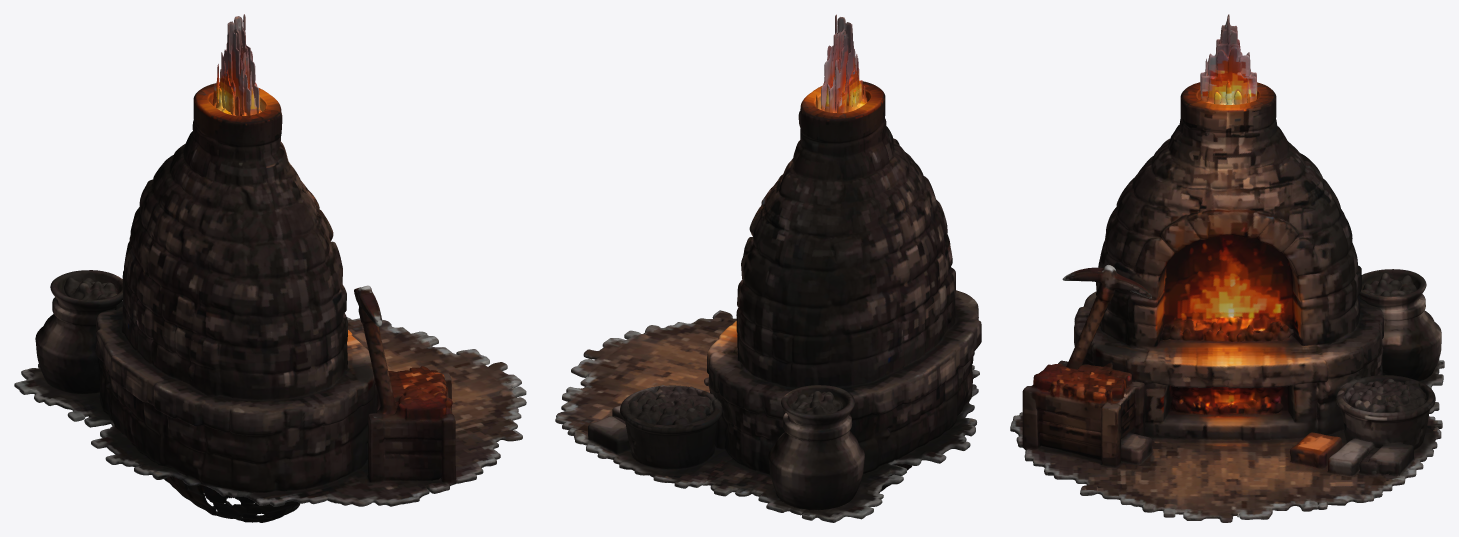
The model's file is stone kiln 3d model.glb.
3 renders of one model, left to right at view 1: azimuth 30°, elevation 25°; view 2: azimuth 150°, elevation 25°; view 3: azimuth 270°, elevation 25°, orthographic. The views are drawn at different scales.
Parts seen in each view (by area): view 1: tripo_node_bc2c50f2-e225-42fa-b979-cc60ac6cb27a; view 2: tripo_node_bc2c50f2-e225-42fa-b979-cc60ac6cb27a; view 3: tripo_node_bc2c50f2-e225-42fa-b979-cc60ac6cb27a.
Boxes of the visible parts, x1,y1,x2,y2 form: tripo_node_bc2c50f2-e225-42fa-b979-cc60ac6cb27a: (14, 14, 526, 522); tripo_node_bc2c50f2-e225-42fa-b979-cc60ac6cb27a: (555, 14, 981, 522); tripo_node_bc2c50f2-e225-42fa-b979-cc60ac6cb27a: (1010, 14, 1444, 522).
Size of the model in its own units: 0.8631 by 1 by 0.8787.
1 material, 1 textured.
